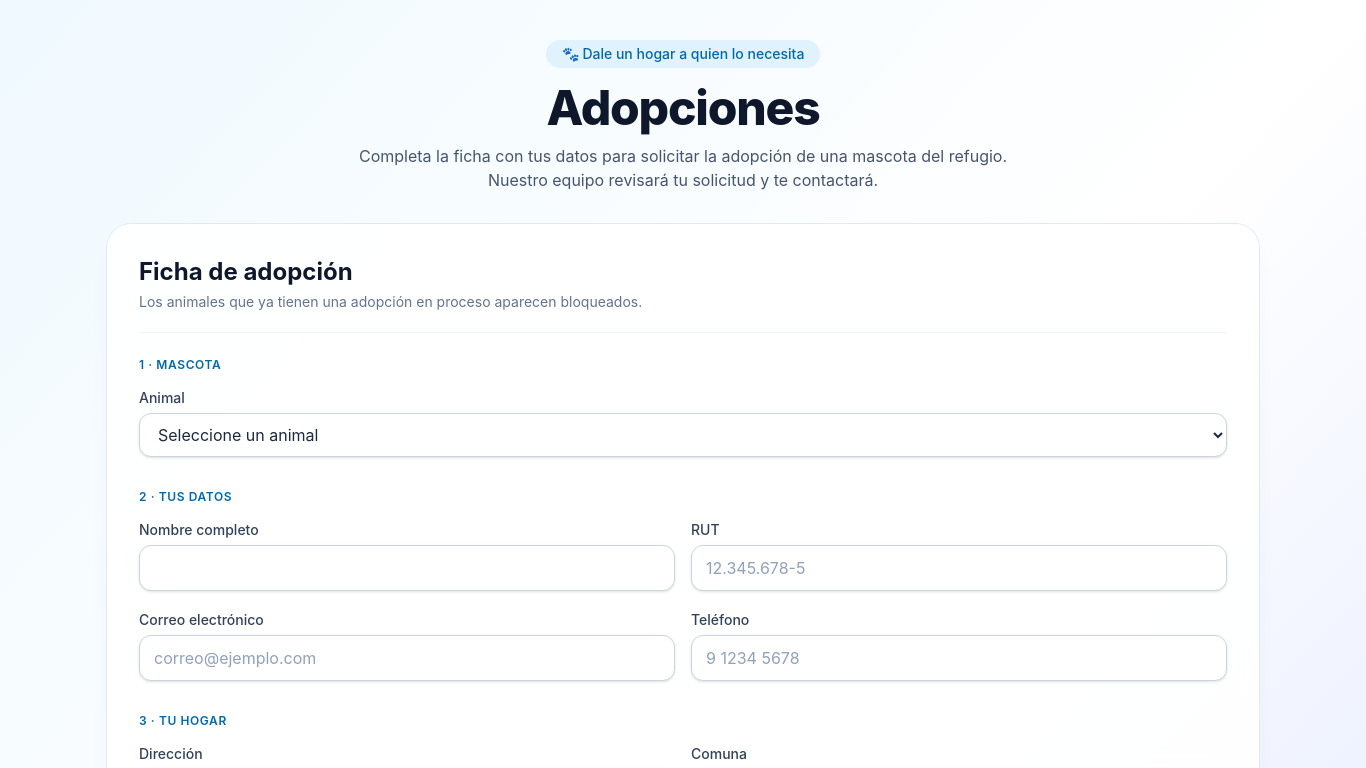
Test: Formulario de adopción (vista del usuario) › avisa si el apóstrofo del nombre no está entre dos letras
Type "Ana 'Soto" into the field labelled "Nombre completo" at coordinates (407, 568), box x1=139 y1=545 x2=675 y2=591
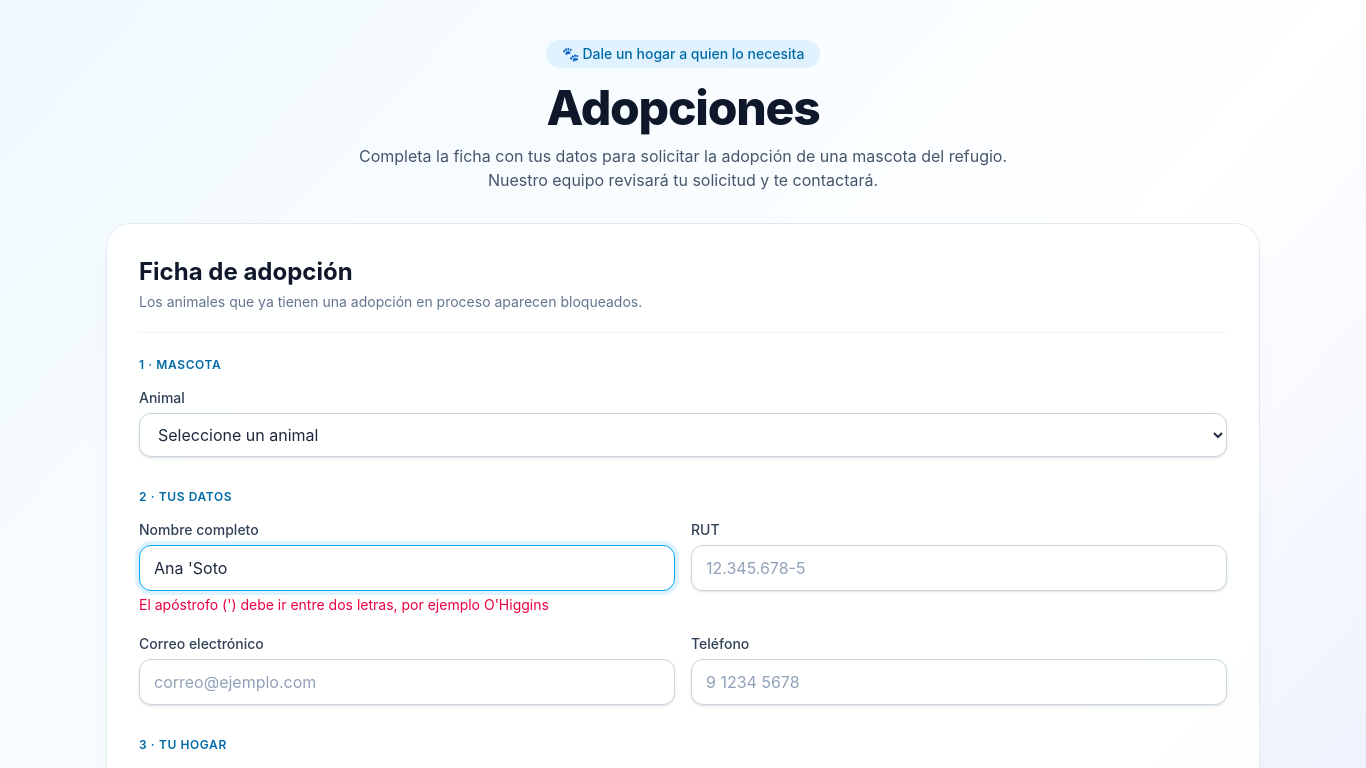
Check: the text "El apóstrofo (') debe ir entre dos letras, por ejemplo O'Higgins" is shown, box x1=139 y1=596 x2=549 y2=613
